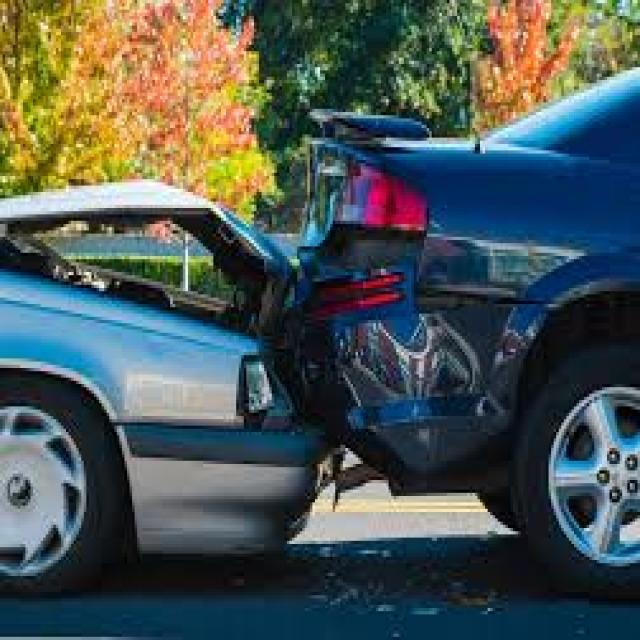Accident: (4, 62, 640, 591)
